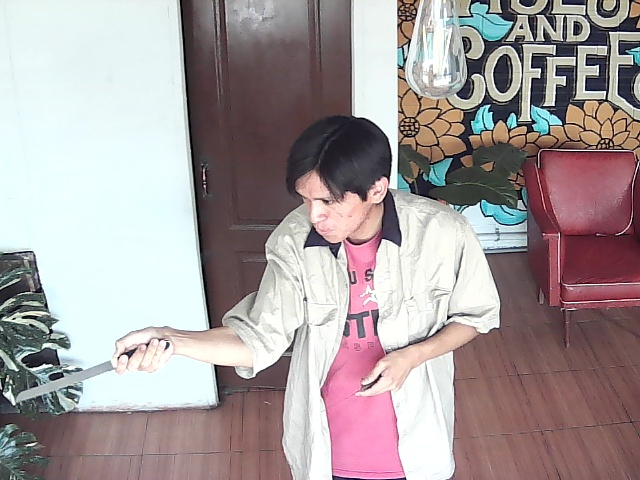cuchillo: (11, 323, 176, 411)
